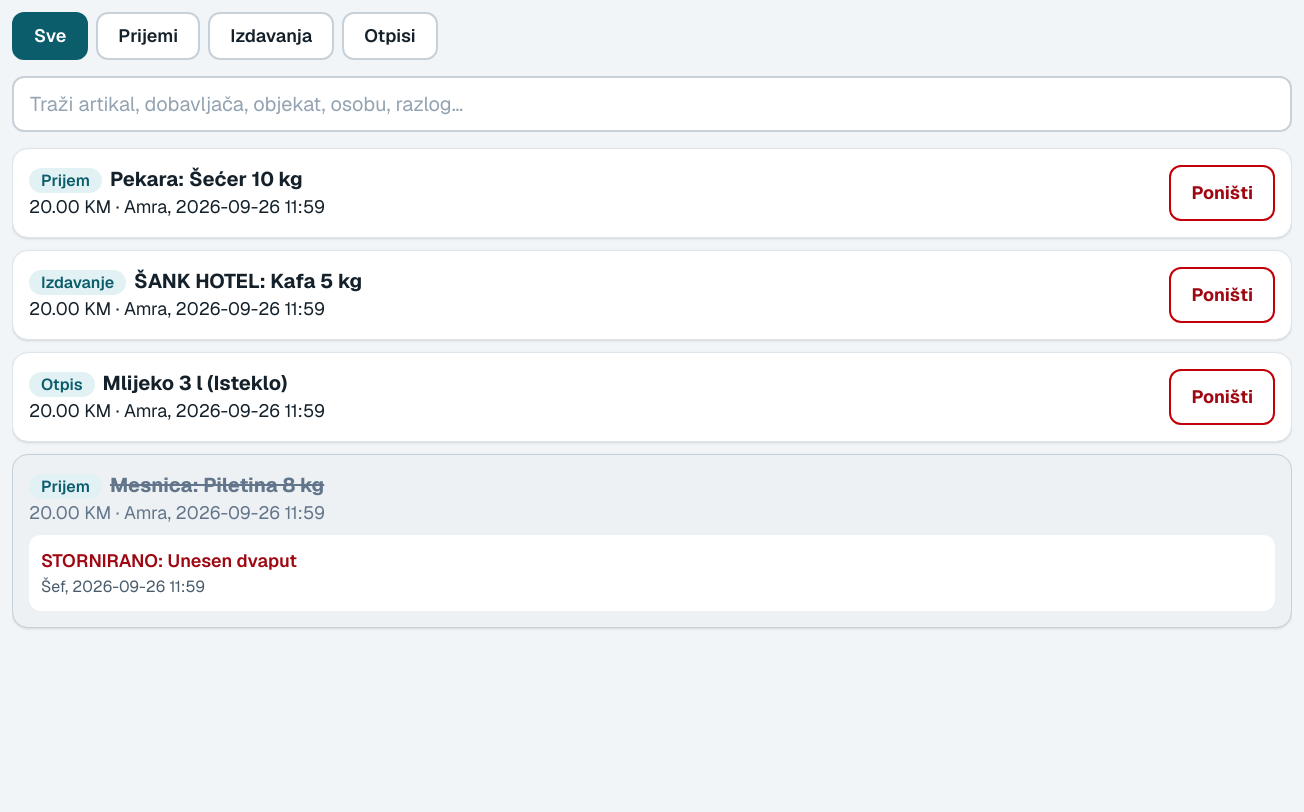
Test: storno: pretraga › traži po artiklu, dobavljaču, objektu i razlogu, uz filter vrste
Step 1. Type "mesnica" into the field named "Traži radnju" → [652, 104], box [12,76,1292,132]
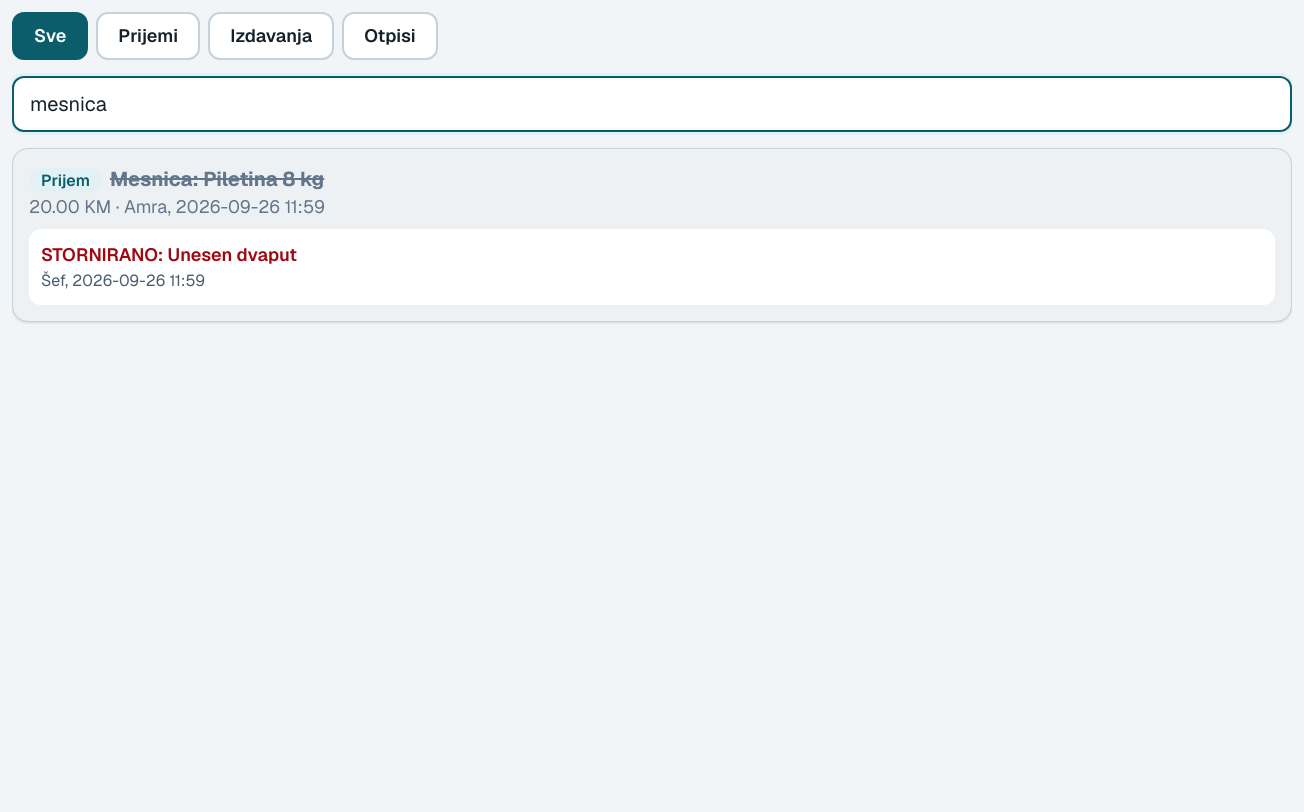
Expected: the text "Mesnica: Piletina 8 kg" is shown, [110,166,324,192]
Expected: the text "Pekara" is gone
Step 2. Replace the text in the field named "Traži radnju" with "SANK" → [652, 104], box [12,76,1292,132]
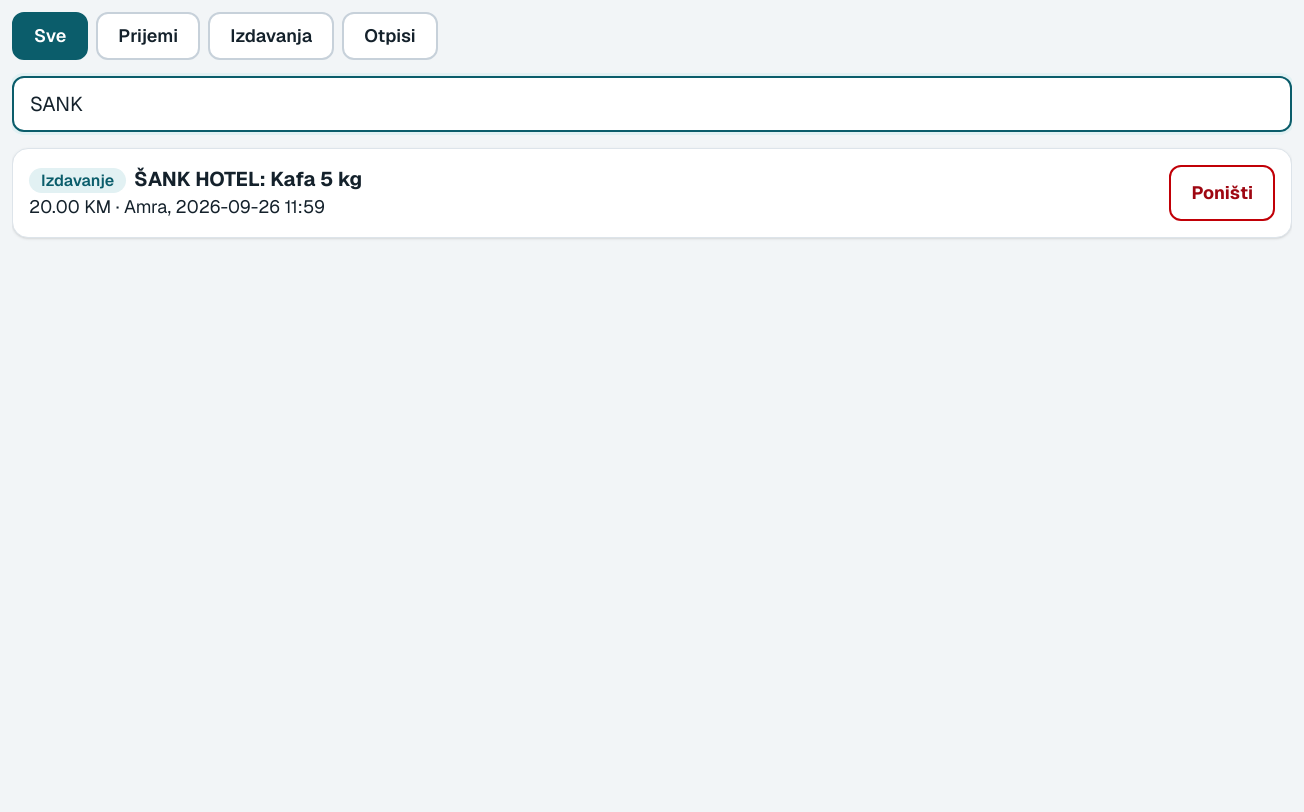
Expected: the text "ŠANK HOTEL: Kafa 5 kg" is shown, [134,166,362,192]
Step 3. Replace the text in the field named "Traži radnju" with "dvaput" → [652, 104], box [12,76,1292,132]
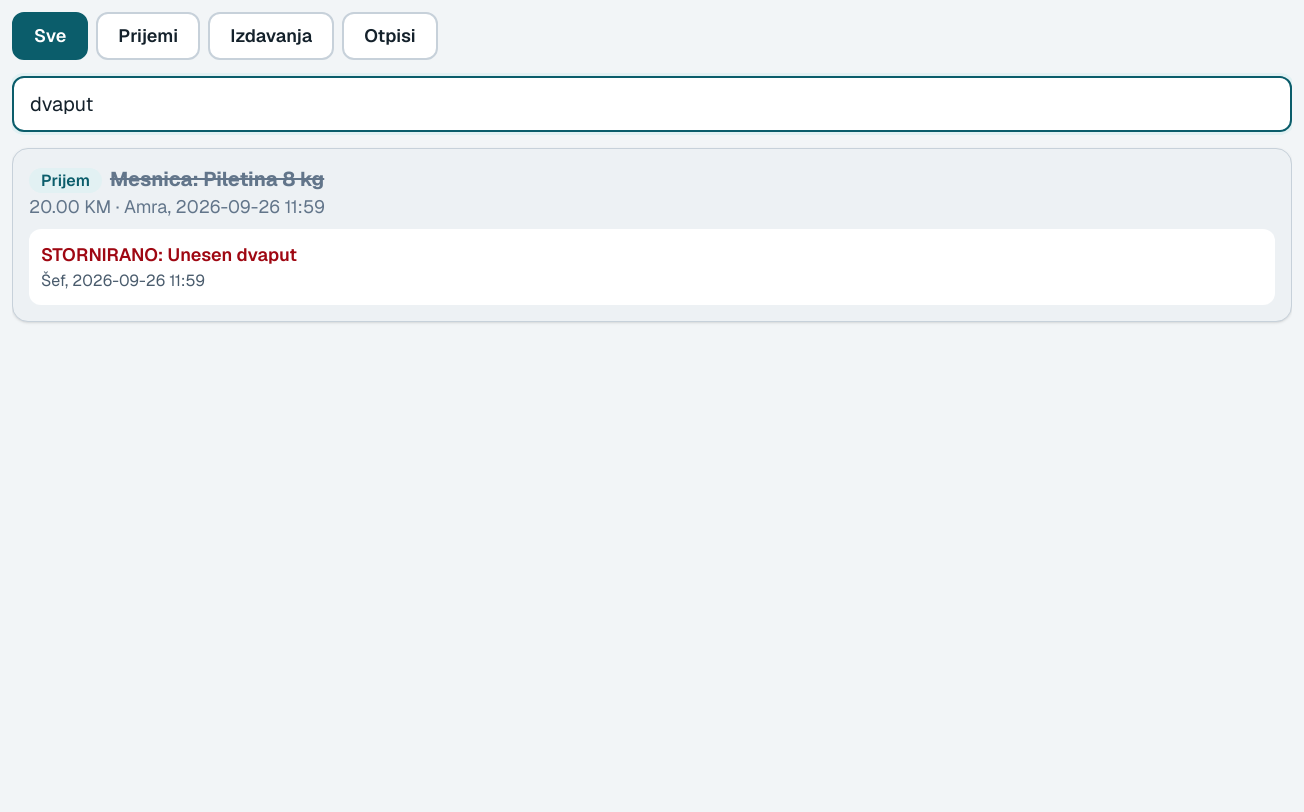
Expected: the text "Mesnica: Piletina 8 kg" is shown, [110,166,324,192]
Expected: the text "Pekara" is gone
